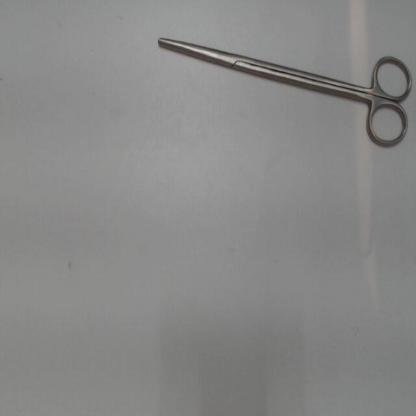9 Metzenbaum Scissors: (155, 33, 414, 154)
